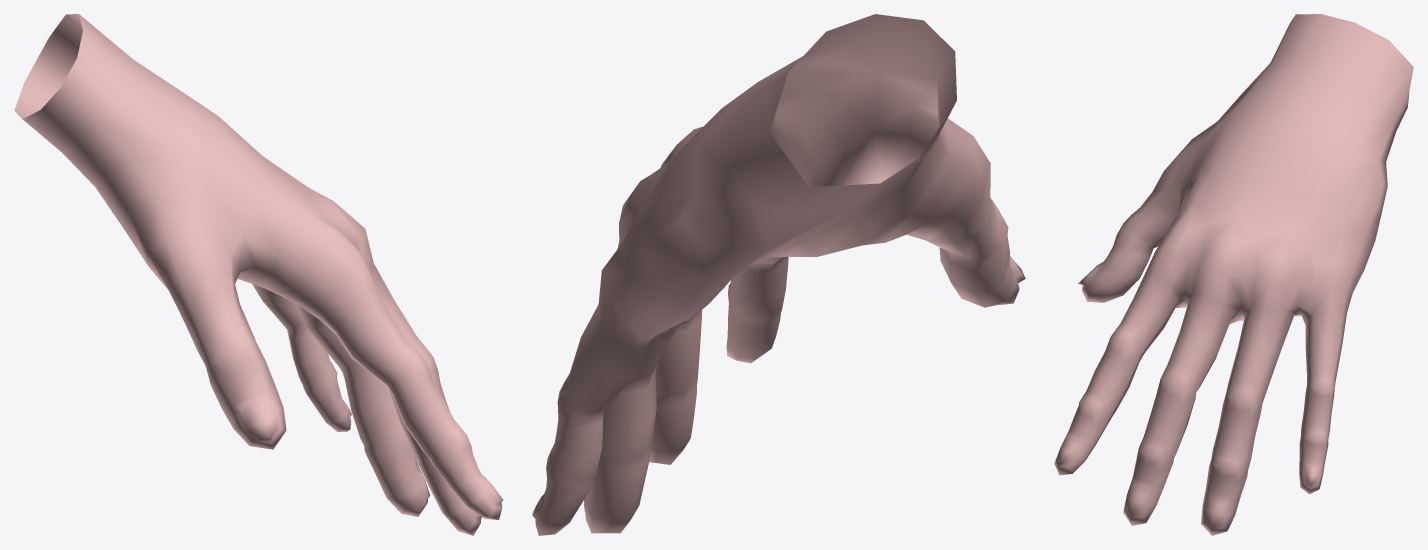
File: Base_Female_A_Hand01.fbx
3 renders of one model, left to right at view 1: azimuth 30°, elevation 25°; view 2: azimuth 150°, elevation 25°; view 3: azimuth 270°, elevation 25°, orthographic. The views are drawn at different scales.
Visible parts, largest first — view 1: Base_Female_A_Hand01; view 2: Base_Female_A_Hand01; view 3: Base_Female_A_Hand01.
Part boxes in pixels (x1,y1,x2,y2): Base_Female_A_Hand01: (14, 14, 503, 535); Base_Female_A_Hand01: (532, 14, 1025, 535); Base_Female_A_Hand01: (1054, 14, 1413, 535).
Bounding box in the file's own units: 0.8049 × 1.15 × 0.9041.
